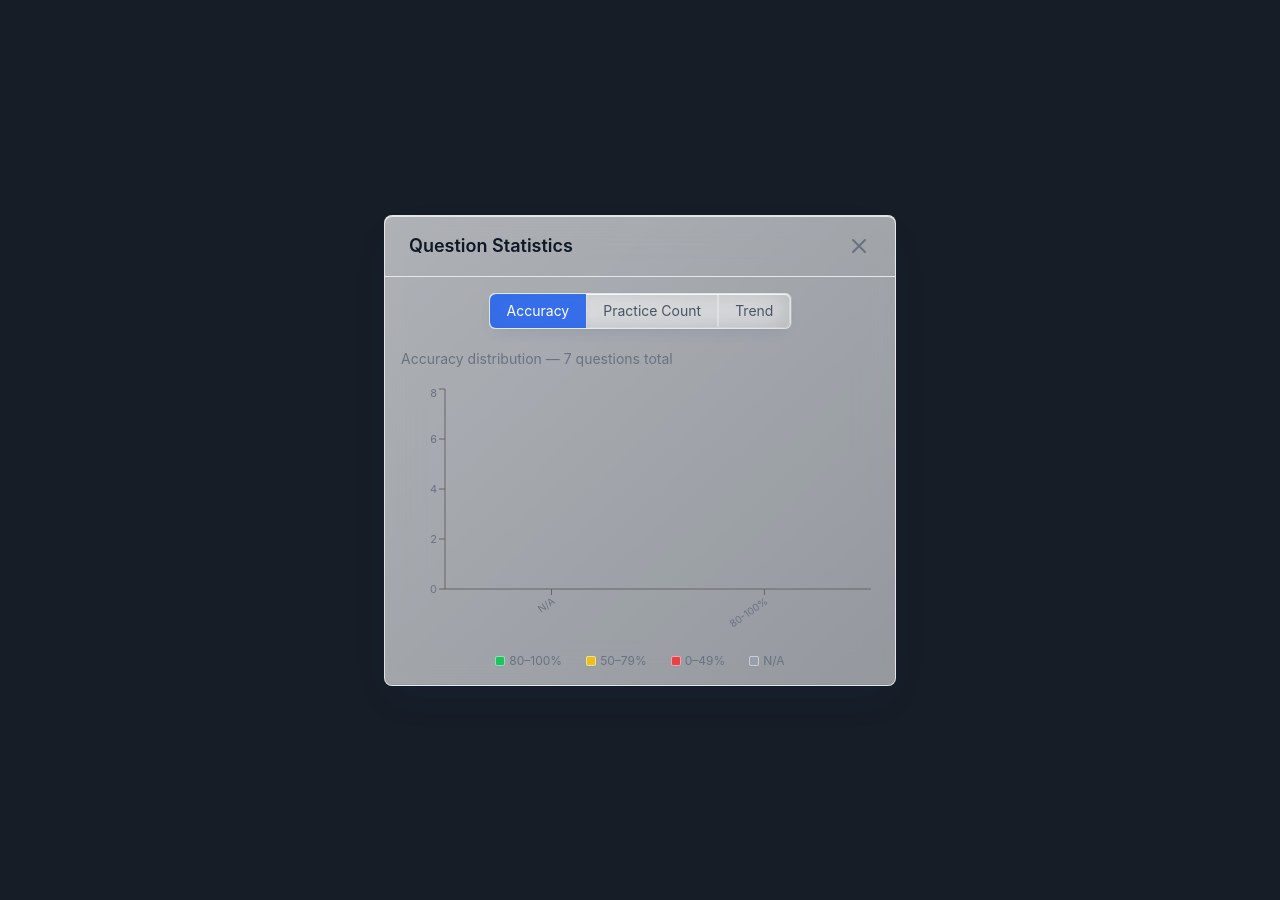
Scenario: QuestionStatsModal › switches to the practice count tab and back to the accuracy tab
This screenshot has width=1280, height=900.
Expected: the text "Accuracy distribution — 7 questions total" is shown, [401,350,673,366]
Click the button "Practice Count" at (652, 310), box [586,294,718,328]
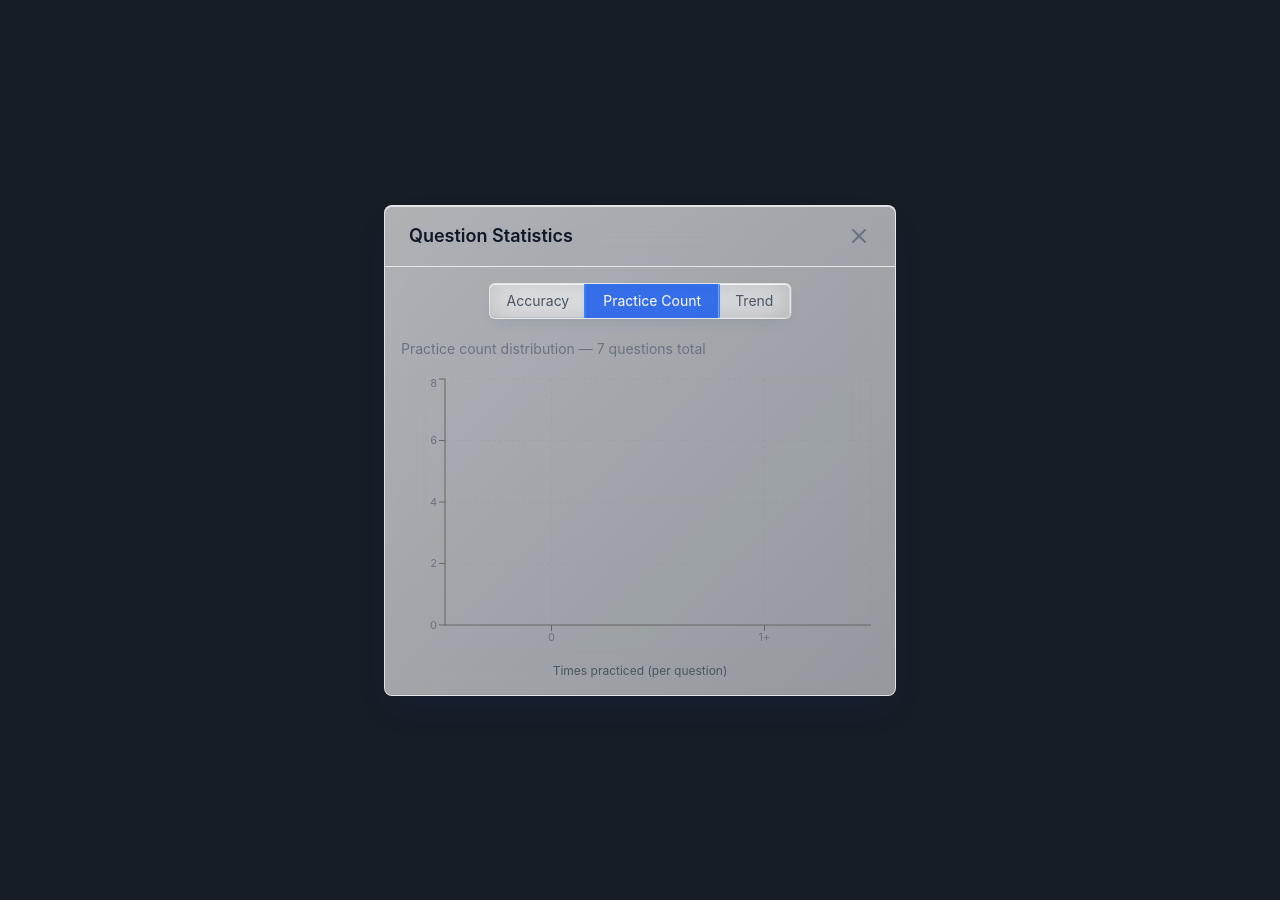
Expected: the text "Practice count distribution — 7 questions total" is shown, [401,340,706,356]
Expected: the text "Times practiced (per question)" is shown, [553,662,727,678]
Expected: the text "Accuracy distribution — 7 questions total" is gone
Click the button "Accuracy" at (538, 300), box [490,284,586,318]
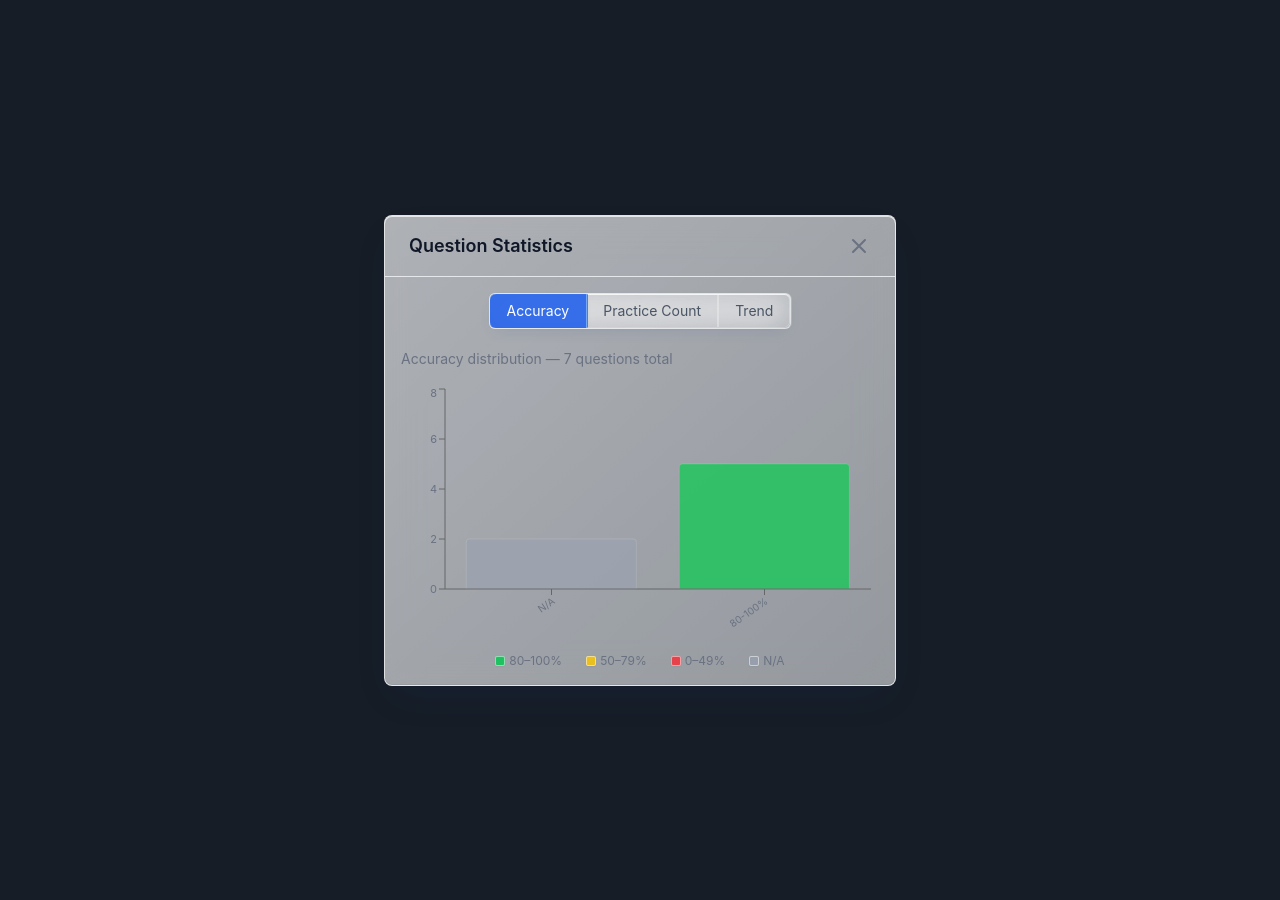
Expected: the text "Accuracy distribution — 7 questions total" is shown, [401,350,673,366]
